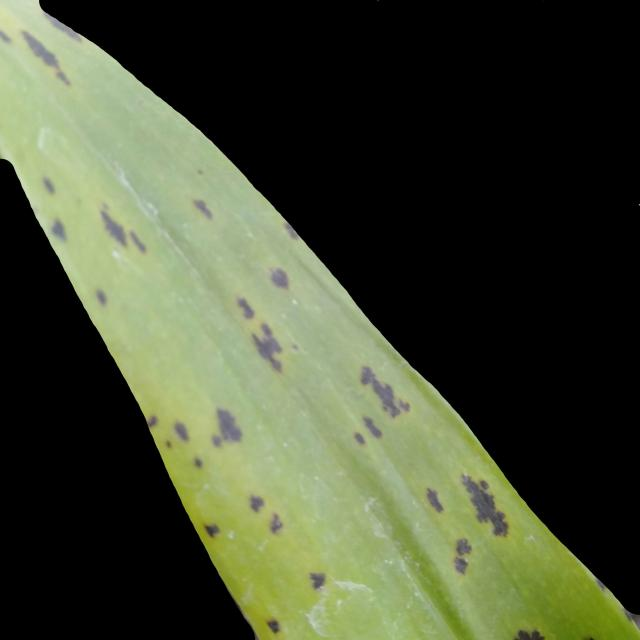mite: (146, 262, 516, 611), (421, 470, 512, 576), (97, 202, 129, 248), (360, 413, 383, 440), (235, 294, 256, 320), (49, 216, 68, 243), (269, 266, 290, 290), (172, 418, 190, 442), (247, 492, 266, 514), (513, 626, 545, 639), (268, 511, 284, 534), (93, 285, 109, 308), (202, 520, 221, 539), (454, 536, 472, 556), (452, 554, 469, 575), (41, 174, 57, 195), (264, 617, 282, 634), (352, 429, 367, 447)
spots: (3, 4, 637, 637)
sunburn: (457, 471, 512, 541)
